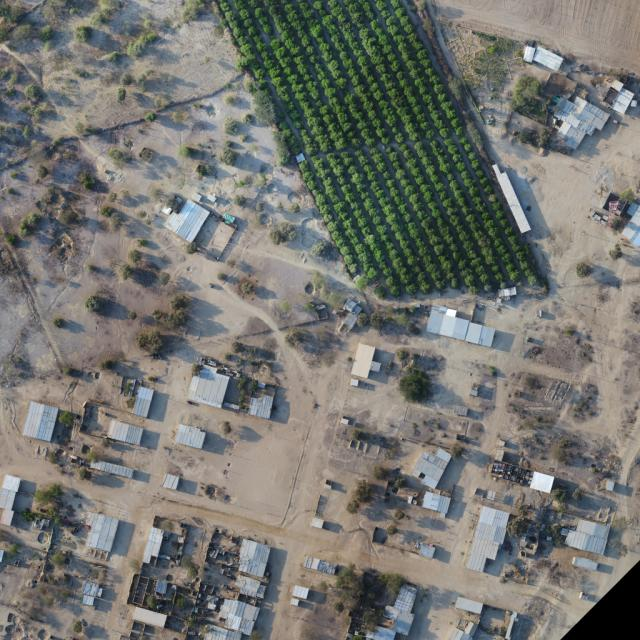building: (540, 89, 610, 157), (491, 162, 532, 234), (163, 195, 211, 244), (409, 441, 453, 490), (186, 365, 231, 409), (215, 596, 261, 637), (81, 511, 119, 553), (22, 401, 59, 442), (464, 536, 500, 575), (235, 538, 270, 578), (522, 43, 565, 71), (564, 529, 608, 555), (141, 526, 166, 566), (107, 419, 144, 446), (175, 422, 208, 450), (89, 458, 135, 478), (233, 574, 268, 598), (351, 344, 375, 379), (465, 322, 497, 348), (438, 315, 469, 341), (474, 521, 507, 545), (0, 474, 21, 511), (132, 386, 155, 419), (394, 584, 419, 614), (248, 392, 274, 420), (576, 518, 610, 539), (479, 507, 510, 528), (611, 87, 634, 115), (422, 491, 450, 513), (392, 610, 414, 636), (454, 596, 484, 615), (530, 471, 555, 493), (204, 626, 241, 639), (426, 309, 445, 334), (465, 322, 483, 345), (572, 557, 599, 571), (2, 475, 21, 492), (317, 560, 338, 575), (448, 627, 473, 639), (162, 474, 180, 490), (609, 78, 625, 93), (0, 509, 14, 526), (292, 585, 309, 599), (419, 544, 435, 558), (289, 597, 301, 607)
dryland: (501, 147, 640, 392), (503, 534, 586, 600), (590, 138, 640, 201)
greenland: (331, 547, 414, 630), (396, 370, 434, 406)
